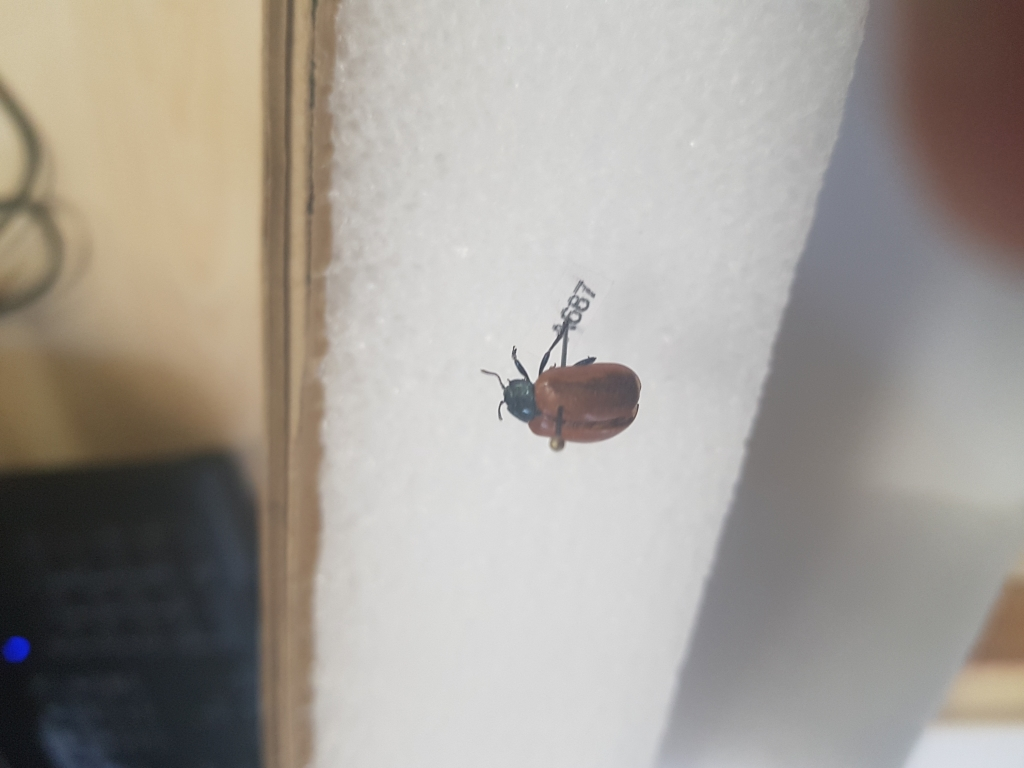Chrysomela_populi: (481, 340, 646, 443)
